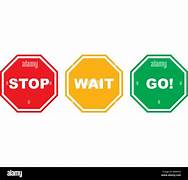stop: (1, 52, 59, 114)
